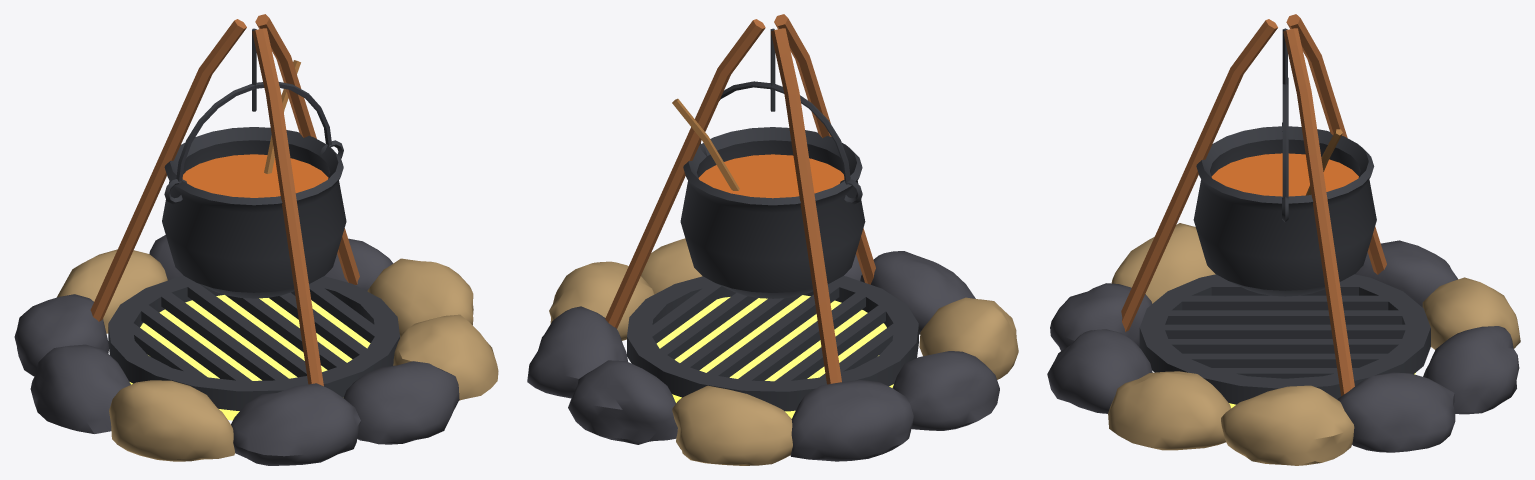
The model's file is deco_cooking_hearth_pot.fbx.
The picture shows the model from 3 angles, left to right: view 1: azimuth 30°, elevation 25°; view 2: azimuth 150°, elevation 25°; view 3: azimuth 270°, elevation 25°; orthographic projection.
Parts seen in each view (by area): view 1: CookingHearth_Pot_Stones, CookingHearth_Pot_Cauldron, CookingHearth_Pot_Grille, CookingHearth_Pot_Tripod, CookingHearth_Pot_Embers; view 2: CookingHearth_Pot_Stones, CookingHearth_Pot_Cauldron, CookingHearth_Pot_Grille, CookingHearth_Pot_Tripod, CookingHearth_Pot_Embers, CookingHearth_Pot_Ladle; view 3: CookingHearth_Pot_Stones, CookingHearth_Pot_Grille, CookingHearth_Pot_Cauldron, CookingHearth_Pot_Tripod.
Boxes of the visible parts, x1=… form: CookingHearth_Pot_Stones: x1=14, y1=235, x2=498, y2=465; CookingHearth_Pot_Cauldron: x1=162, y1=82, x2=346, y2=298; CookingHearth_Pot_Grille: x1=108, y1=275, x2=399, y2=410; CookingHearth_Pot_Tripod: x1=90, y1=14, x2=359, y2=386; CookingHearth_Pot_Embers: x1=129, y1=295, x2=370, y2=420; CookingHearth_Pot_Stones: x1=527, y1=238, x2=1018, y2=465; CookingHearth_Pot_Cauldron: x1=680, y1=81, x2=865, y2=298; CookingHearth_Pot_Grille: x1=627, y1=276, x2=918, y2=411; CookingHearth_Pot_Tripod: x1=605, y1=14, x2=875, y2=384; CookingHearth_Pot_Embers: x1=656, y1=295, x2=893, y2=418; CookingHearth_Pot_Ladle: x1=672, y1=98, x2=739, y2=190; CookingHearth_Pot_Stones: x1=1047, y1=223, x2=1520, y2=465; CookingHearth_Pot_Grille: x1=1139, y1=274, x2=1430, y2=404; CookingHearth_Pot_Cauldron: x1=1193, y1=77, x2=1376, y2=296; CookingHearth_Pot_Tripod: x1=1121, y1=14, x2=1386, y2=396.
Bounding box in the file's own units: 181 × 142 × 176.
